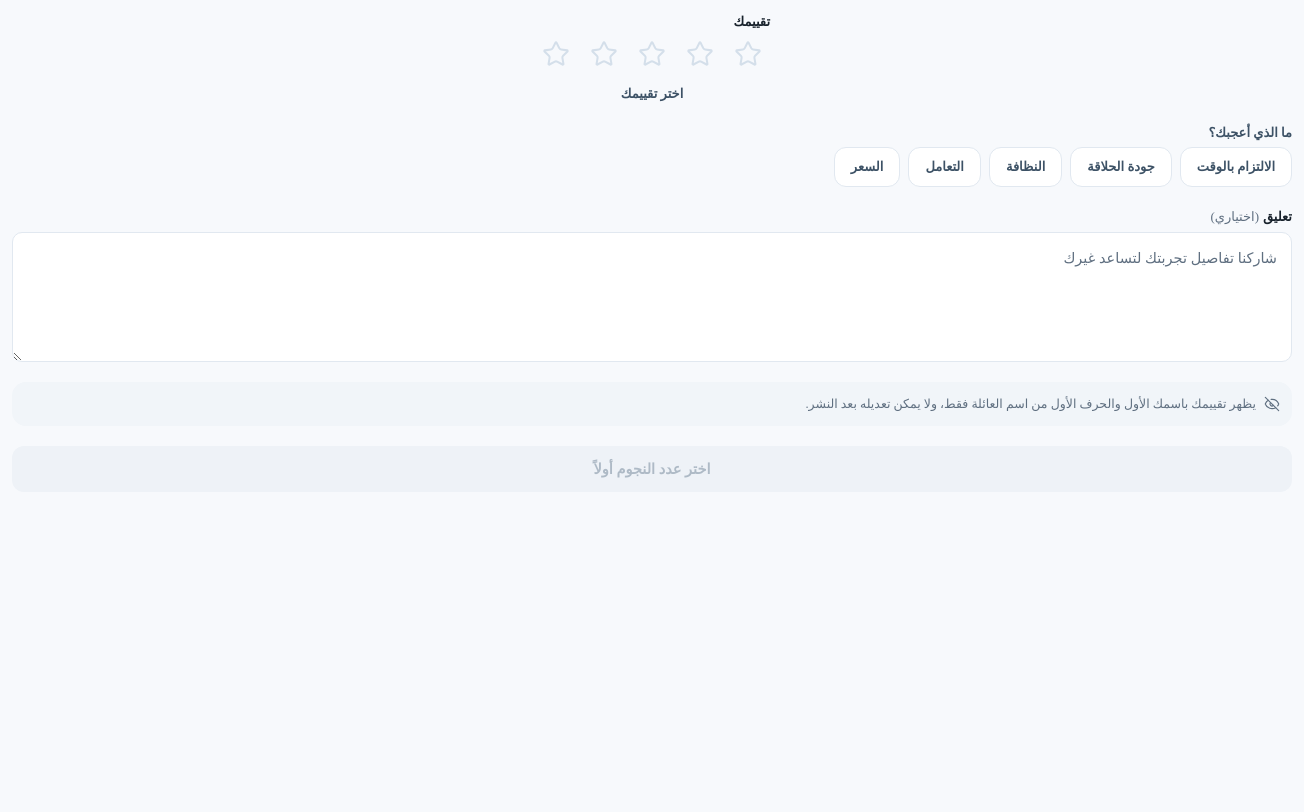
ReviewForm (c-rate, R-CUS-09) › says so when the visit was already rated
Click the radio button named "5 من 5". click: (556, 54)
box: [542,40,570,68]
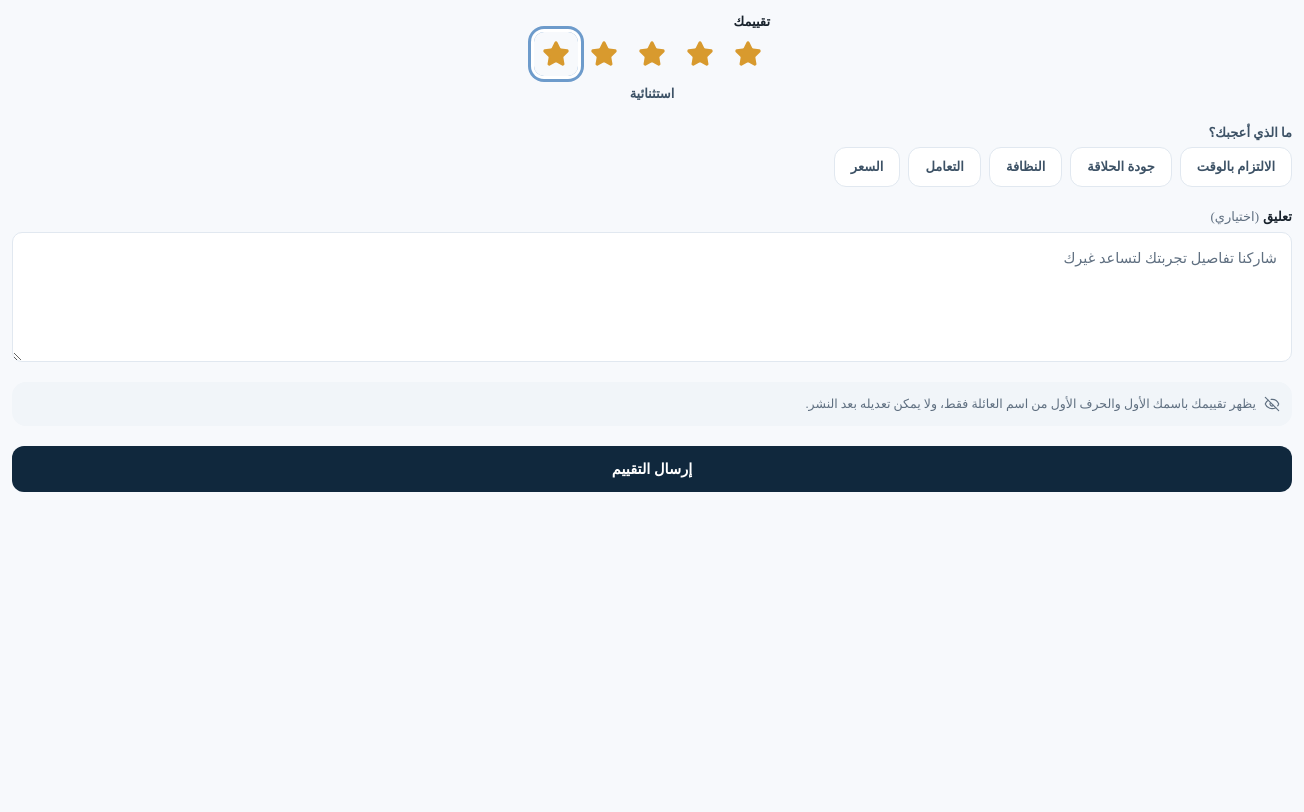
Click the button "إرسال التقييم". click: (652, 469)
box: [12,446,1292,492]
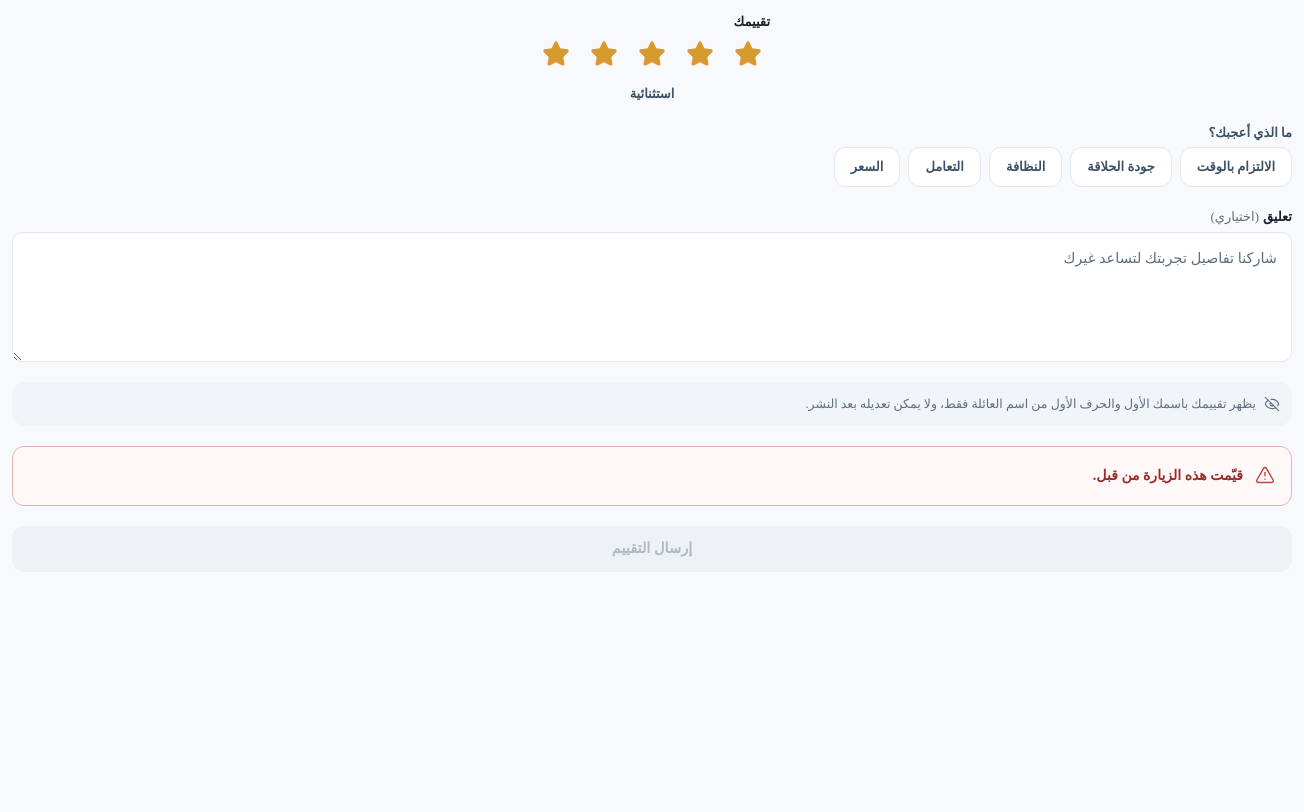
Expected: the message reads "قيّمت هذه الزيارة من قبل.", [1093,468,1243,483]
Expected: the button "إرسال التقييم" is disabled, [12,526,1292,572]
